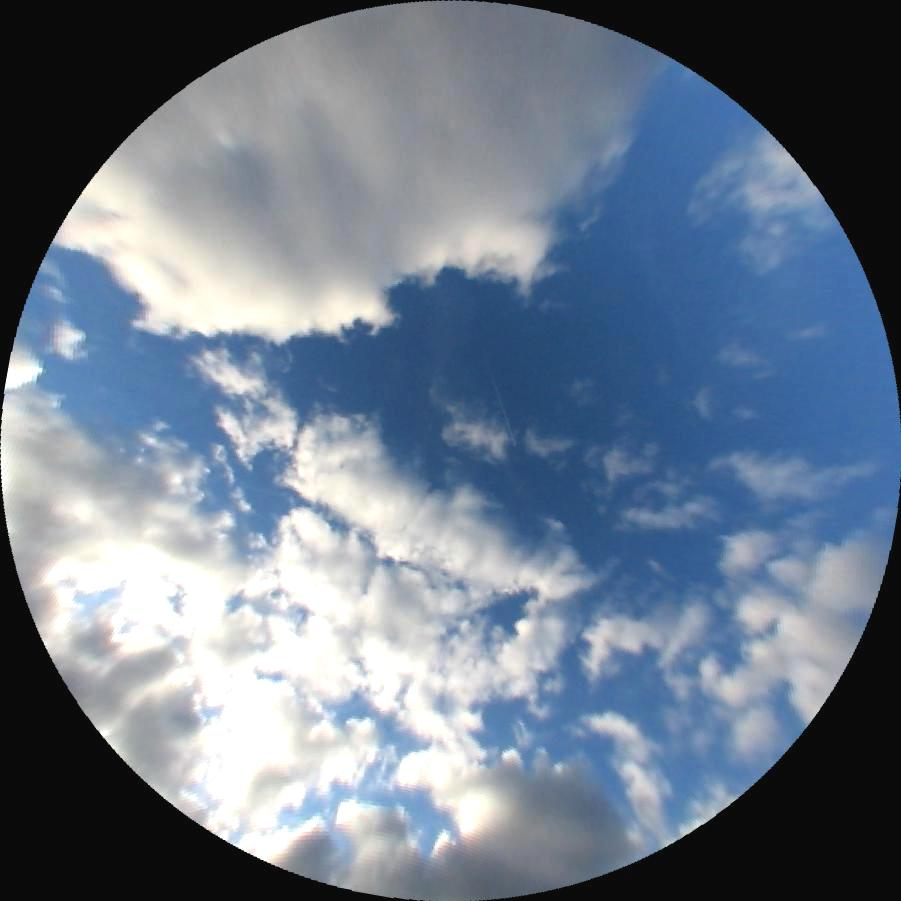contrail young: (472, 322, 516, 446)
